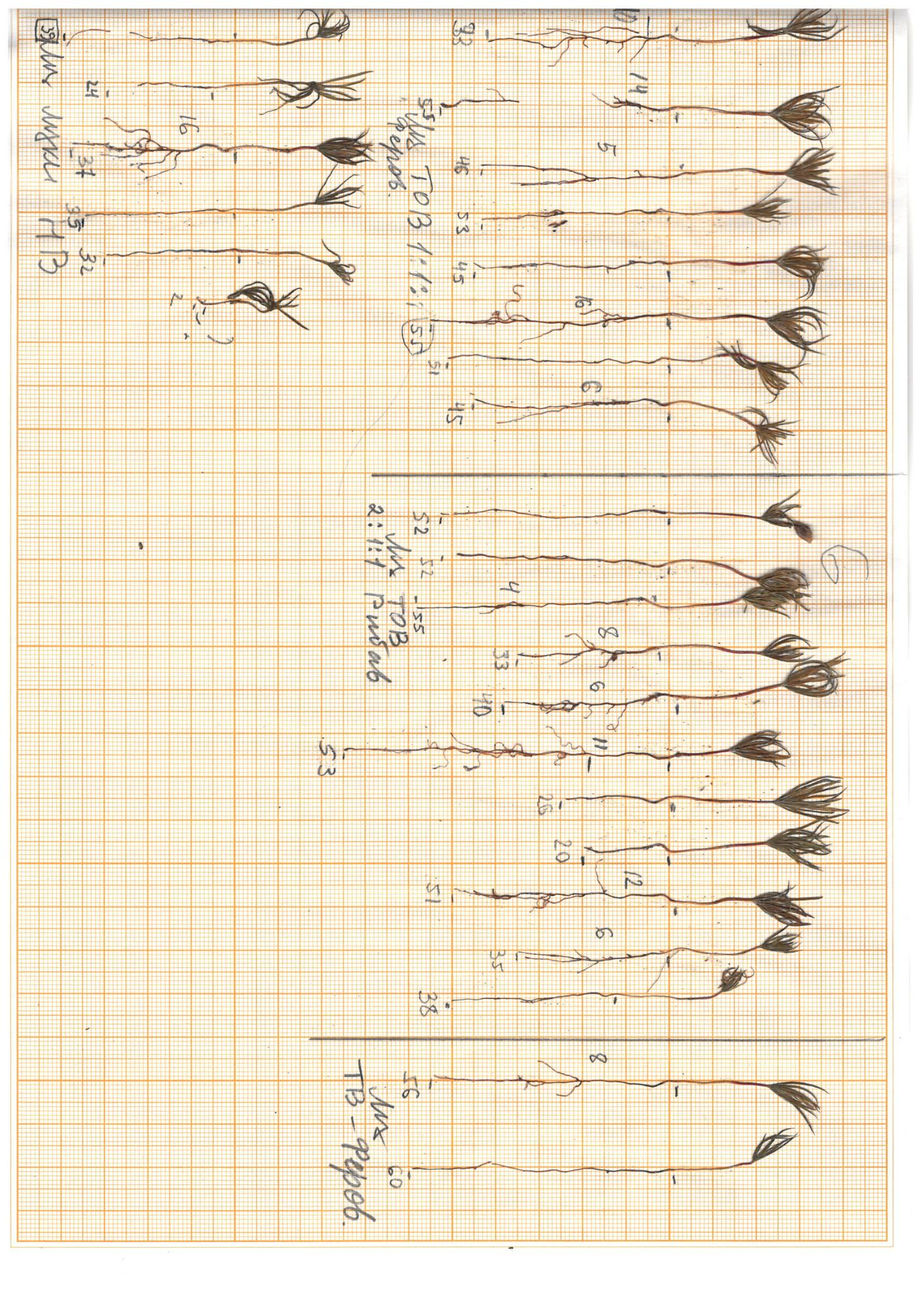pinus: (435, 288, 829, 365), (434, 83, 843, 149), (430, 1062, 823, 1129), (462, 394, 797, 464), (444, 489, 820, 551), (439, 342, 808, 404), (484, 7, 849, 69), (411, 1131, 799, 1188), (498, 658, 848, 720), (451, 873, 817, 931), (340, 728, 794, 774), (471, 244, 832, 301), (453, 548, 810, 596), (479, 148, 842, 195), (67, 120, 376, 171), (581, 817, 835, 877), (81, 168, 362, 222), (101, 233, 357, 291), (566, 773, 848, 825), (415, 584, 796, 621), (448, 966, 751, 1011), (471, 186, 796, 226), (65, 13, 357, 57), (517, 928, 802, 970), (136, 69, 375, 117), (514, 629, 814, 667), (191, 279, 313, 334)
